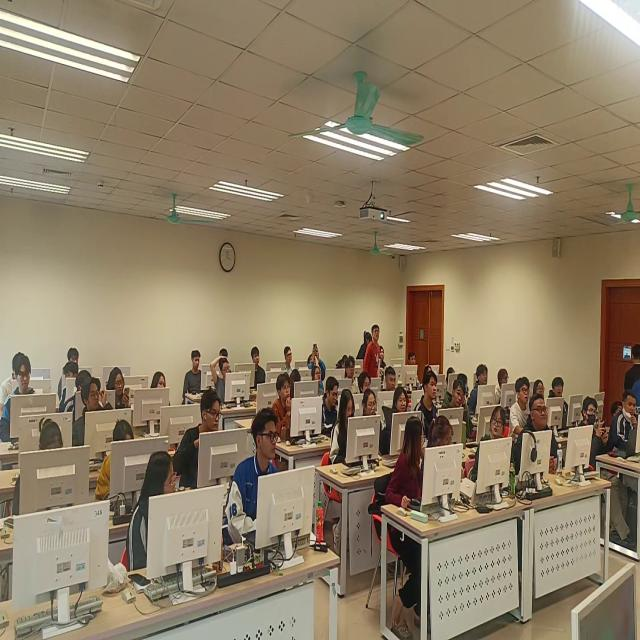raise_head: (133, 451, 202, 589), (178, 388, 236, 478), (7, 355, 50, 434), (522, 396, 563, 477), (273, 373, 316, 445), (78, 380, 119, 443), (618, 391, 640, 467), (417, 370, 441, 432), (550, 375, 574, 428), (445, 385, 475, 426), (514, 374, 533, 434), (474, 364, 494, 412), (390, 387, 416, 423), (63, 348, 87, 371), (344, 358, 360, 391), (406, 351, 421, 385), (383, 368, 399, 395), (283, 344, 296, 376)
stand: (365, 323, 385, 384), (626, 339, 640, 413)
using_computer: (18, 418, 80, 524), (97, 418, 146, 505), (334, 392, 371, 469), (361, 389, 398, 461), (213, 356, 253, 410), (185, 351, 213, 399), (322, 378, 345, 436), (146, 372, 172, 410), (495, 366, 517, 406), (249, 347, 268, 391)
using_phone: (578, 398, 614, 487), (107, 367, 135, 415), (308, 340, 328, 378)
